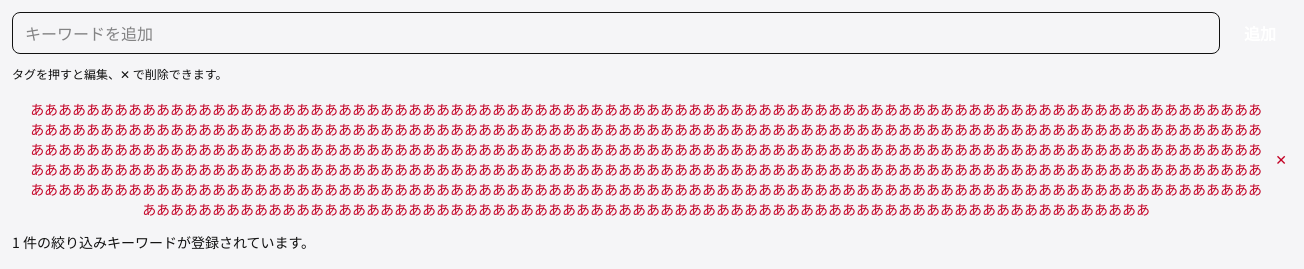
KeywordFilterComponent › prevents additions that exceed 512 total characters
The image size is (1304, 269).
Type "い" into the field with test id "keyword-filter-input". click: [616, 33]
box: [12, 12, 1220, 54]
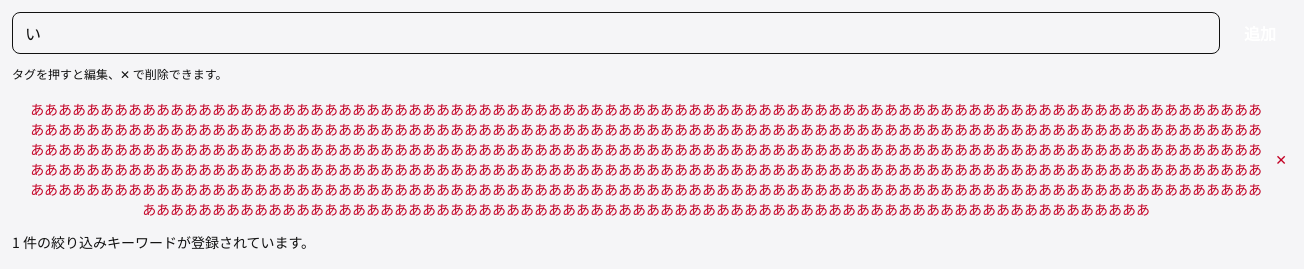
Press Enter in the field with test id "keyword-filter-input", box [12, 12, 1220, 54]
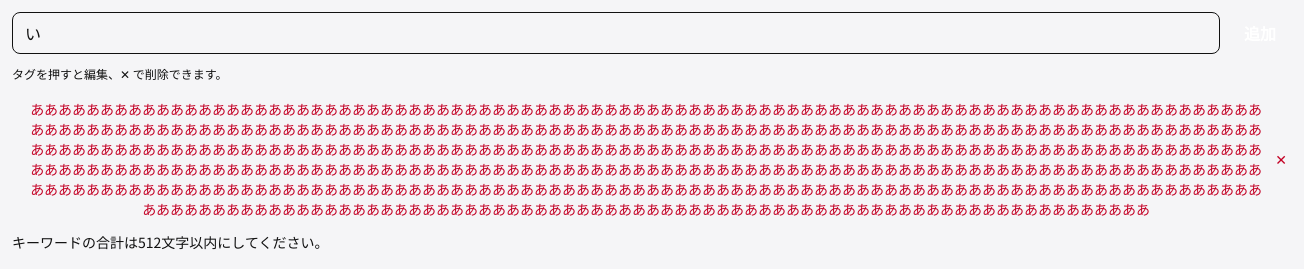
Expected: the text with test id "keyword-filter-status" shows "512文字以内", [12, 232, 328, 252]
